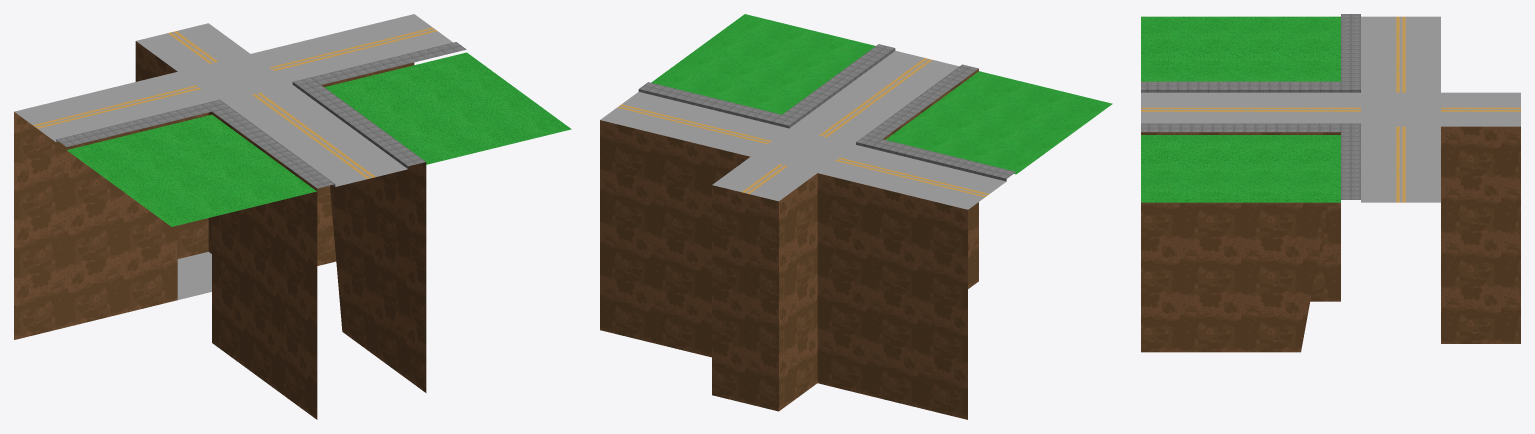
File: Terrain_06_crossroads.FBX
3 views of the same model, side by side, from view 1: azimuth 30°, elevation 25°; view 2: azimuth 150°, elevation 25°; view 3: azimuth 270°, elevation 25° (orthographic). The views are drawn at different scales.
Parts seen in each view (by area): view 1: Terrain_06_ground, Terrain_06, Terrain_06_grass; view 2: Terrain_06_ground, Terrain_06, Terrain_06_grass; view 3: Terrain_06_ground, Terrain_06, Terrain_06_grass.
Boxes of the visible parts, x1,y1,x2,y2 form: Terrain_06_ground: (14,41,426,419); Terrain_06: (14,14,466,299); Terrain_06_grass: (67,52,571,226); Terrain_06_ground: (600,69,978,419); Terrain_06: (600,44,1015,209); Terrain_06_grass: (651,14,1112,174); Terrain_06_ground: (1141,126,1520,352); Terrain_06: (1141,14,1520,202); Terrain_06_grass: (1141,16,1340,202).
Size of the model in its own units: 220 by 122 by 190.
